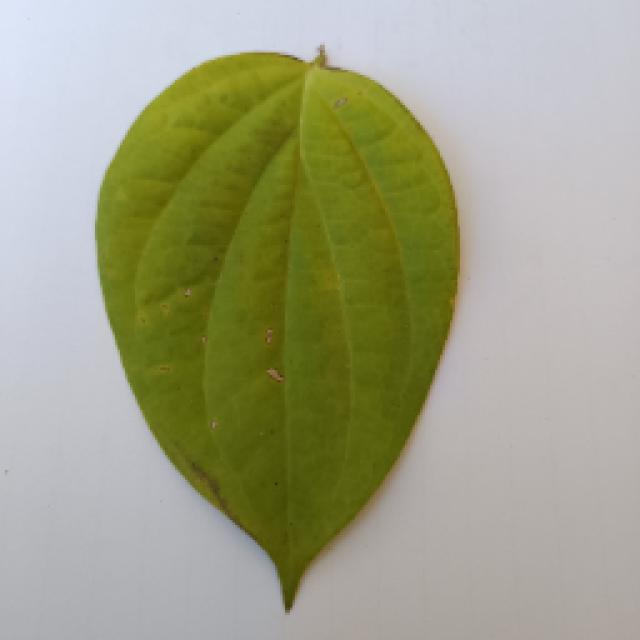slow-decline: (93, 50, 455, 610)
